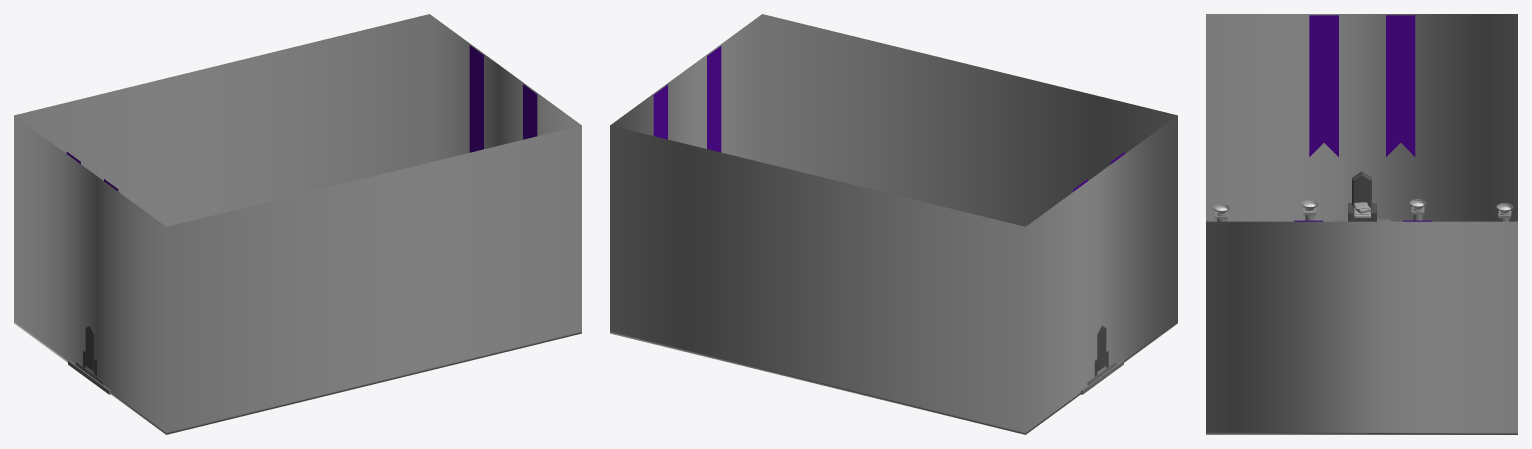
The model's file is Room 1.fbx.
The picture shows the model from 3 angles, left to right: view 1: azimuth 30°, elevation 25°; view 2: azimuth 150°, elevation 25°; view 3: azimuth 270°, elevation 25°; orthographic projection. The views are drawn at different scales.
Parts seen in each view (by area): view 1: Room, Flag_B1; view 2: Room, Flag_B1; view 3: Room, Flag_B1, Throne.
Part boxes in pixels (bbox=[...]): Room: bbox=[14, 14, 581, 434]; Flag_B1: bbox=[66, 45, 537, 191]; Room: bbox=[610, 14, 1177, 434]; Flag_B1: bbox=[653, 46, 1124, 191]; Room: bbox=[1206, 14, 1517, 434]; Flag_B1: bbox=[1294, 15, 1432, 221]; Throne: bbox=[1348, 171, 1376, 221].
Bounding box in the file's own units: 114 × 54.56 × 72.17.
